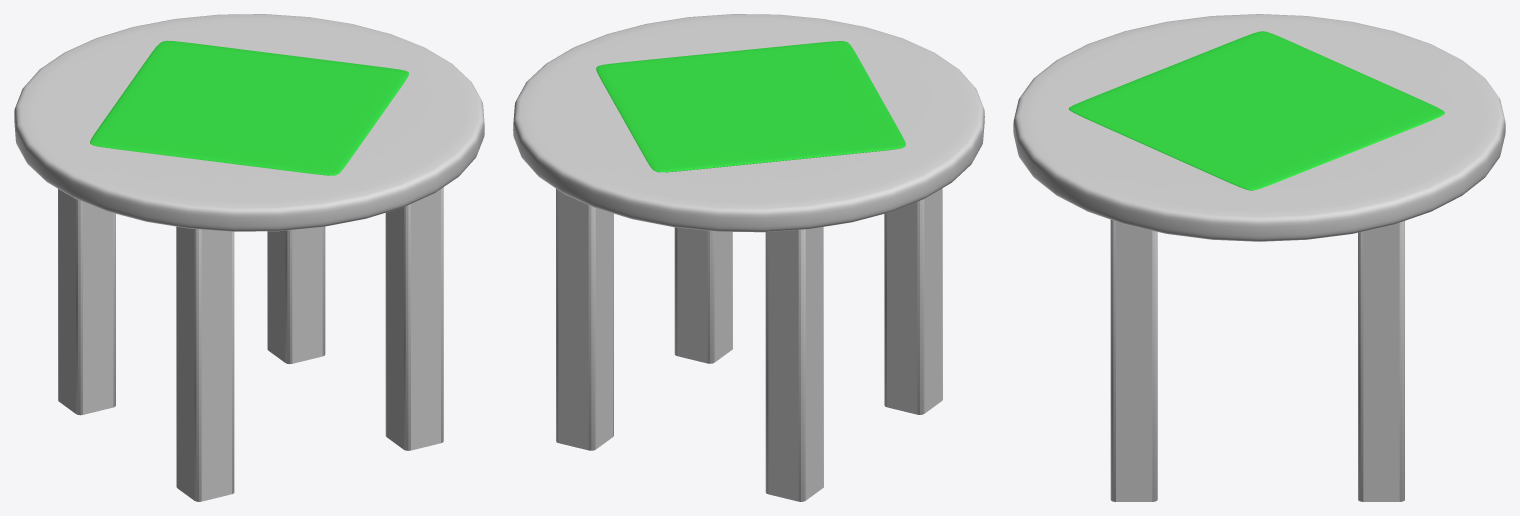
File: Table.fbx
3 renders of one model, left to right at view 1: azimuth 30°, elevation 25°; view 2: azimuth 150°, elevation 25°; view 3: azimuth 270°, elevation 25°, orthographic. The views are drawn at different scales.
Visible parts, largest first — view 1: Cube.020; view 2: Cube.020; view 3: Cube.020.
Boxes of the visible parts, bbox=[...] form: Cube.020: bbox=[14, 14, 484, 501]; Cube.020: bbox=[513, 14, 984, 501]; Cube.020: bbox=[1013, 14, 1505, 501].
Size of the model in its own units: 167 by 123 by 167.
